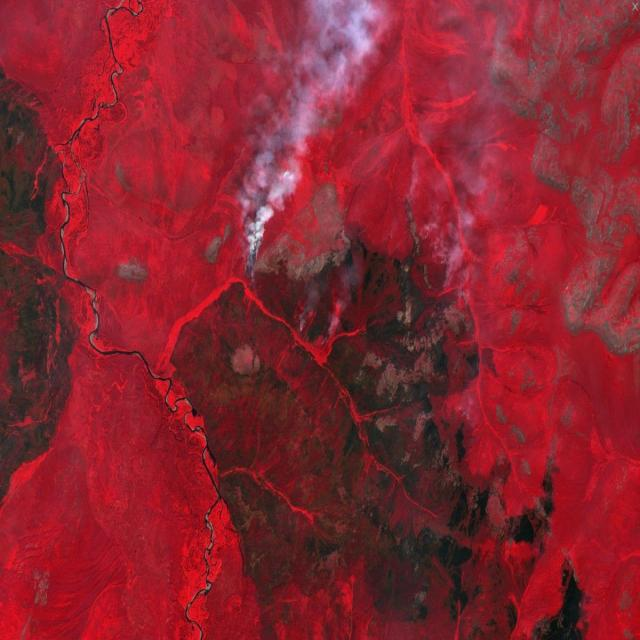fire: (239, 232, 336, 370), (401, 199, 469, 332)
